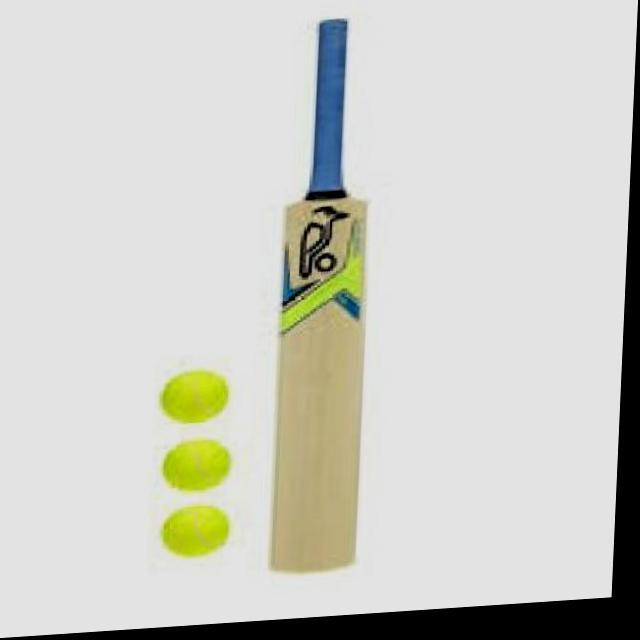-: (147, 356, 256, 448), (140, 500, 263, 580), (144, 430, 266, 504)
